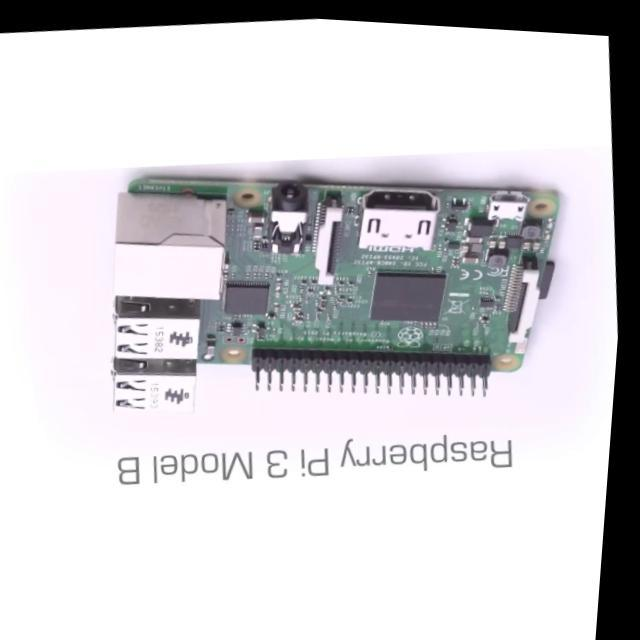Raspberry-Pi-3-B: (113, 178, 560, 410)
